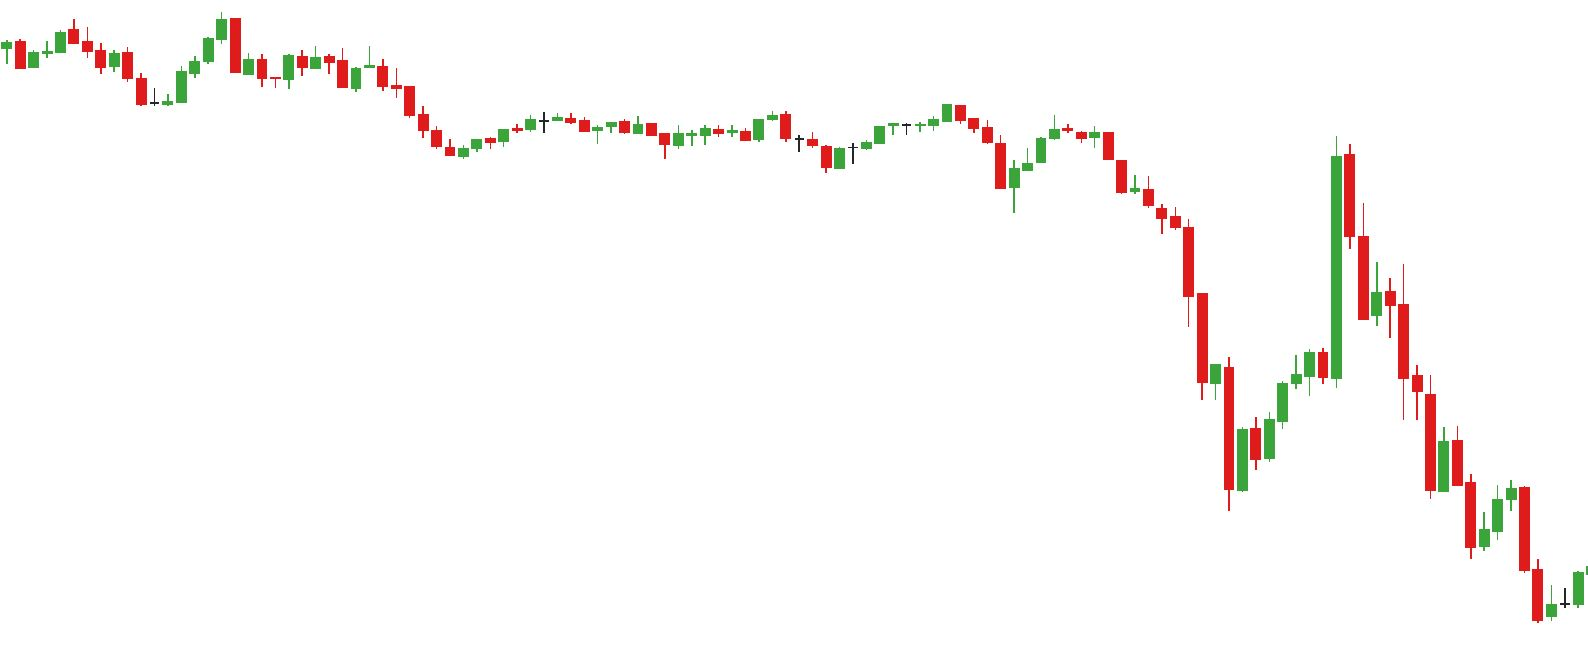sell: (763, 99, 969, 154)
